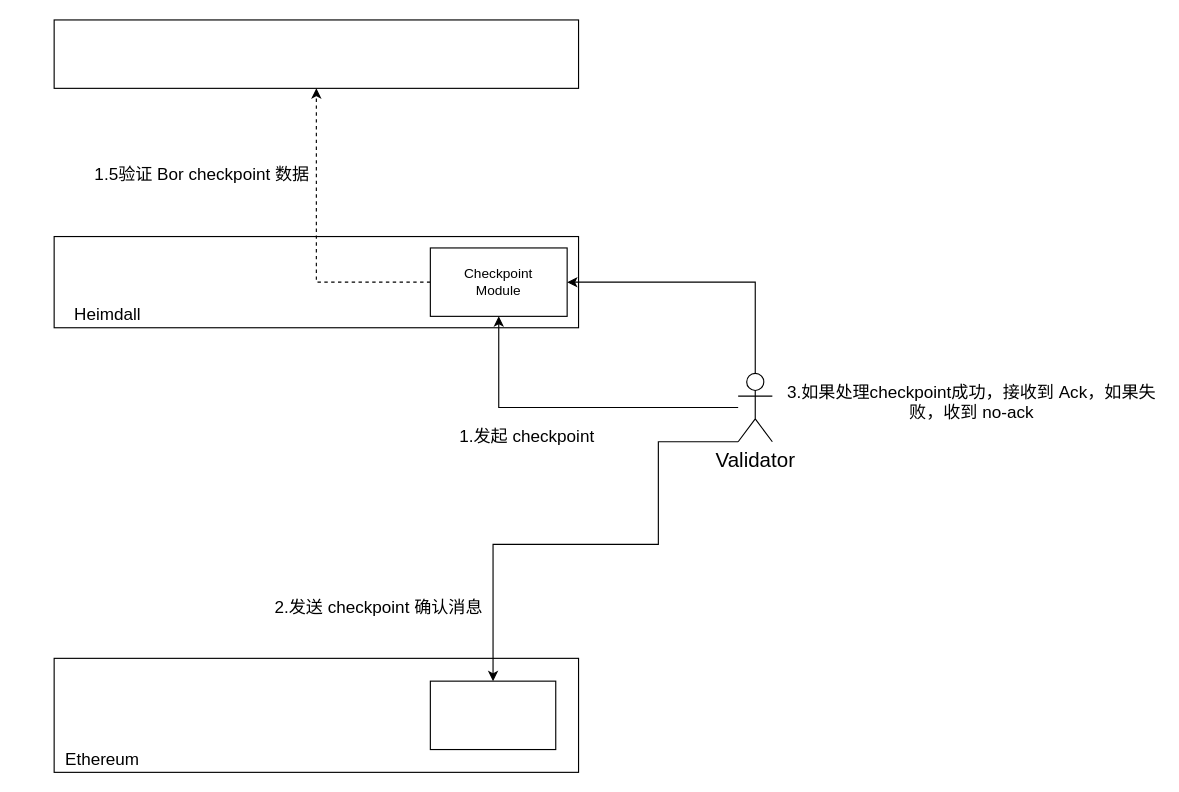
Image size: 1179x792. Some labels were removed from this diagram. Each missing label, with the centre of its shape:
"Bor" goes at point (316, 53).
"Rootchain.sol" goes at point (492, 715).
